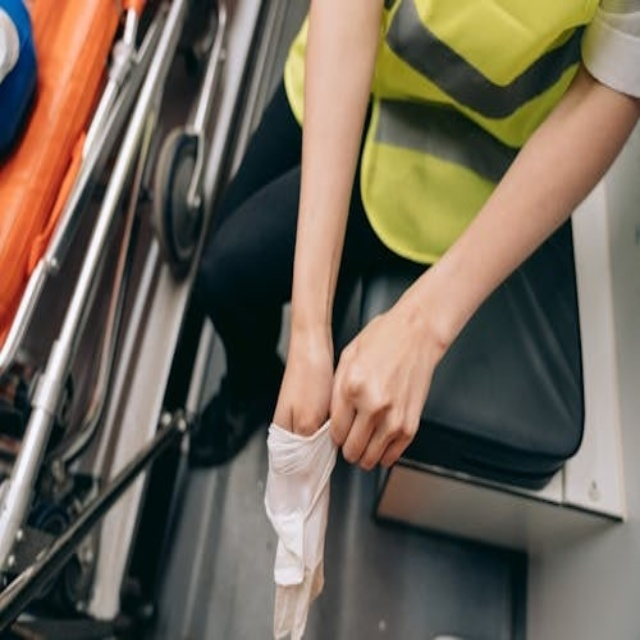Sin_guantes: (325, 293, 447, 473), (271, 309, 336, 451)
